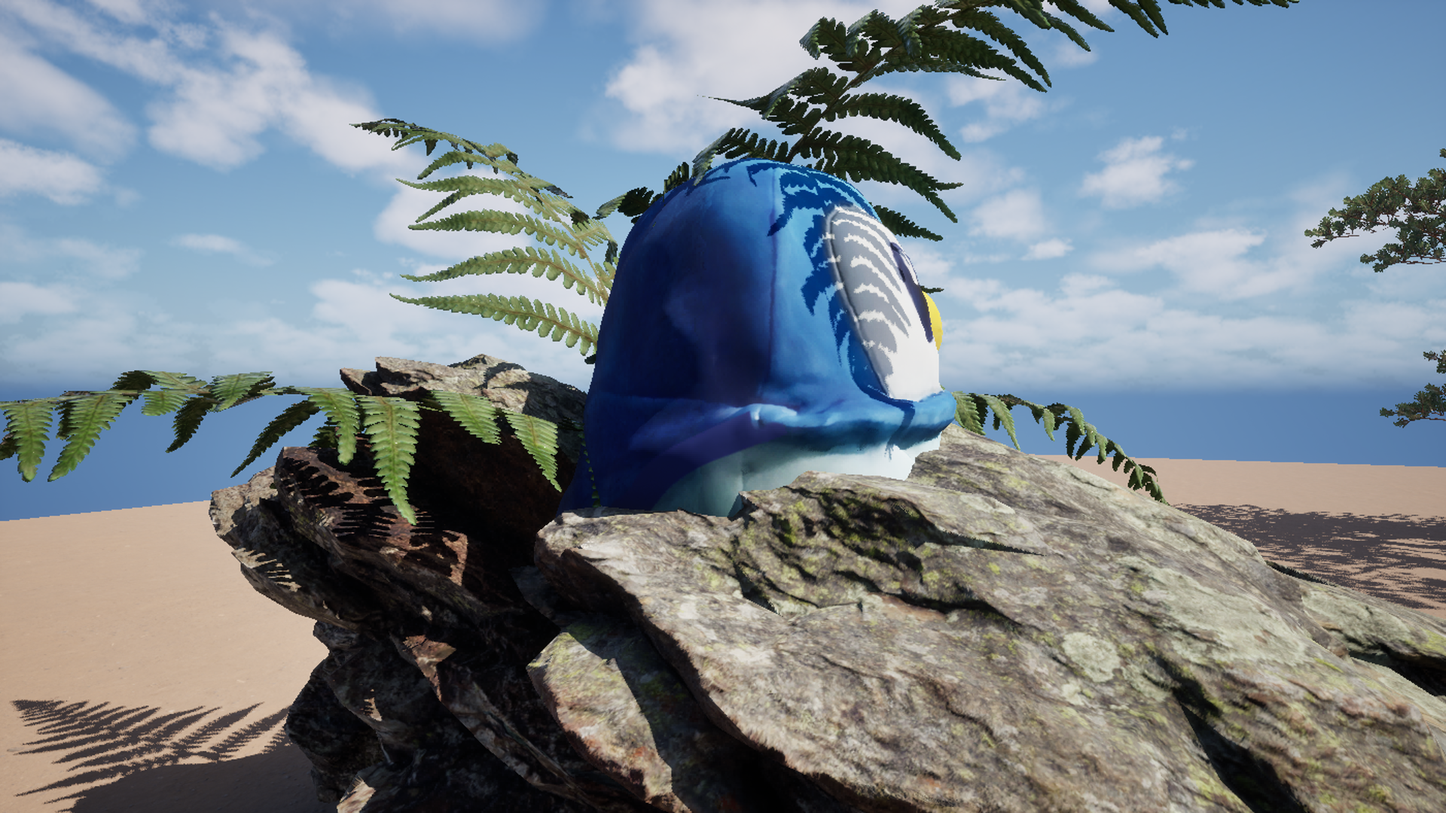Piplup: (249, 0, 1063, 813)
